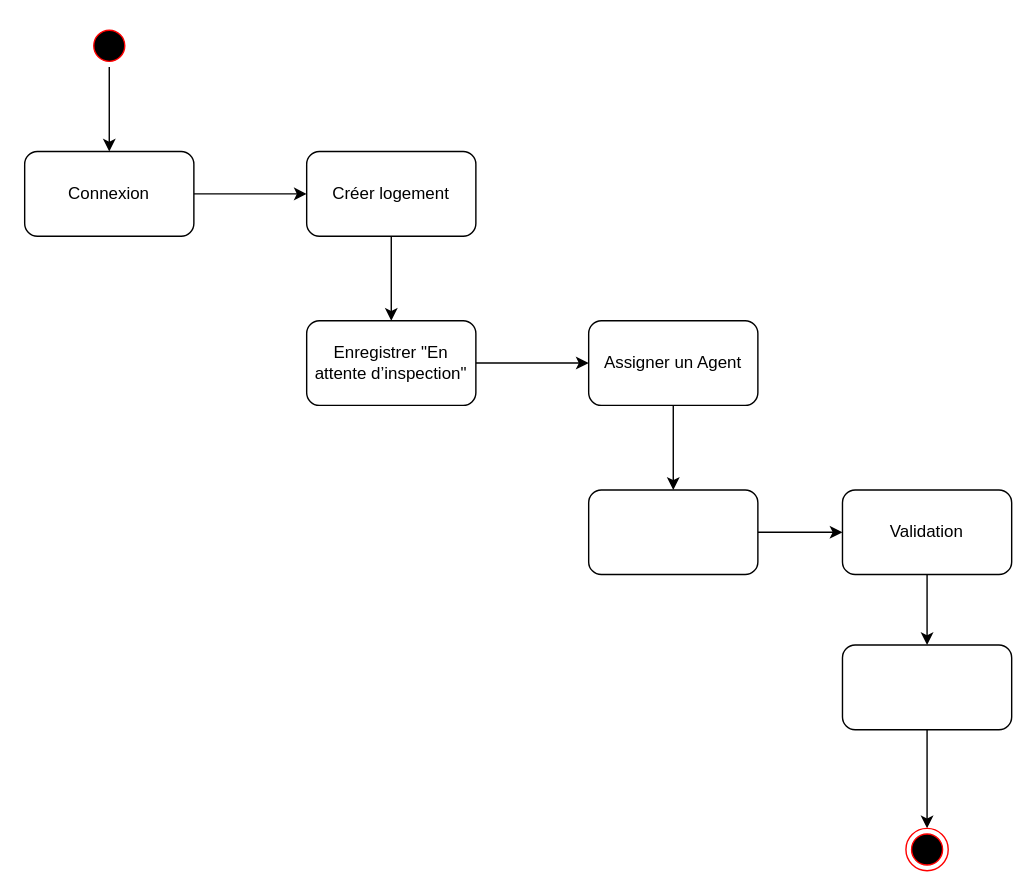
Image size: 1036x895. Some labels were removed from this diagram. The shapes that lost their labels are listed below. From the top down, each one's centre as x and y in pixels, then its label:
At pixel 672 532: "Inspection + Rapport".
At pixel 926 687: "Publication".
